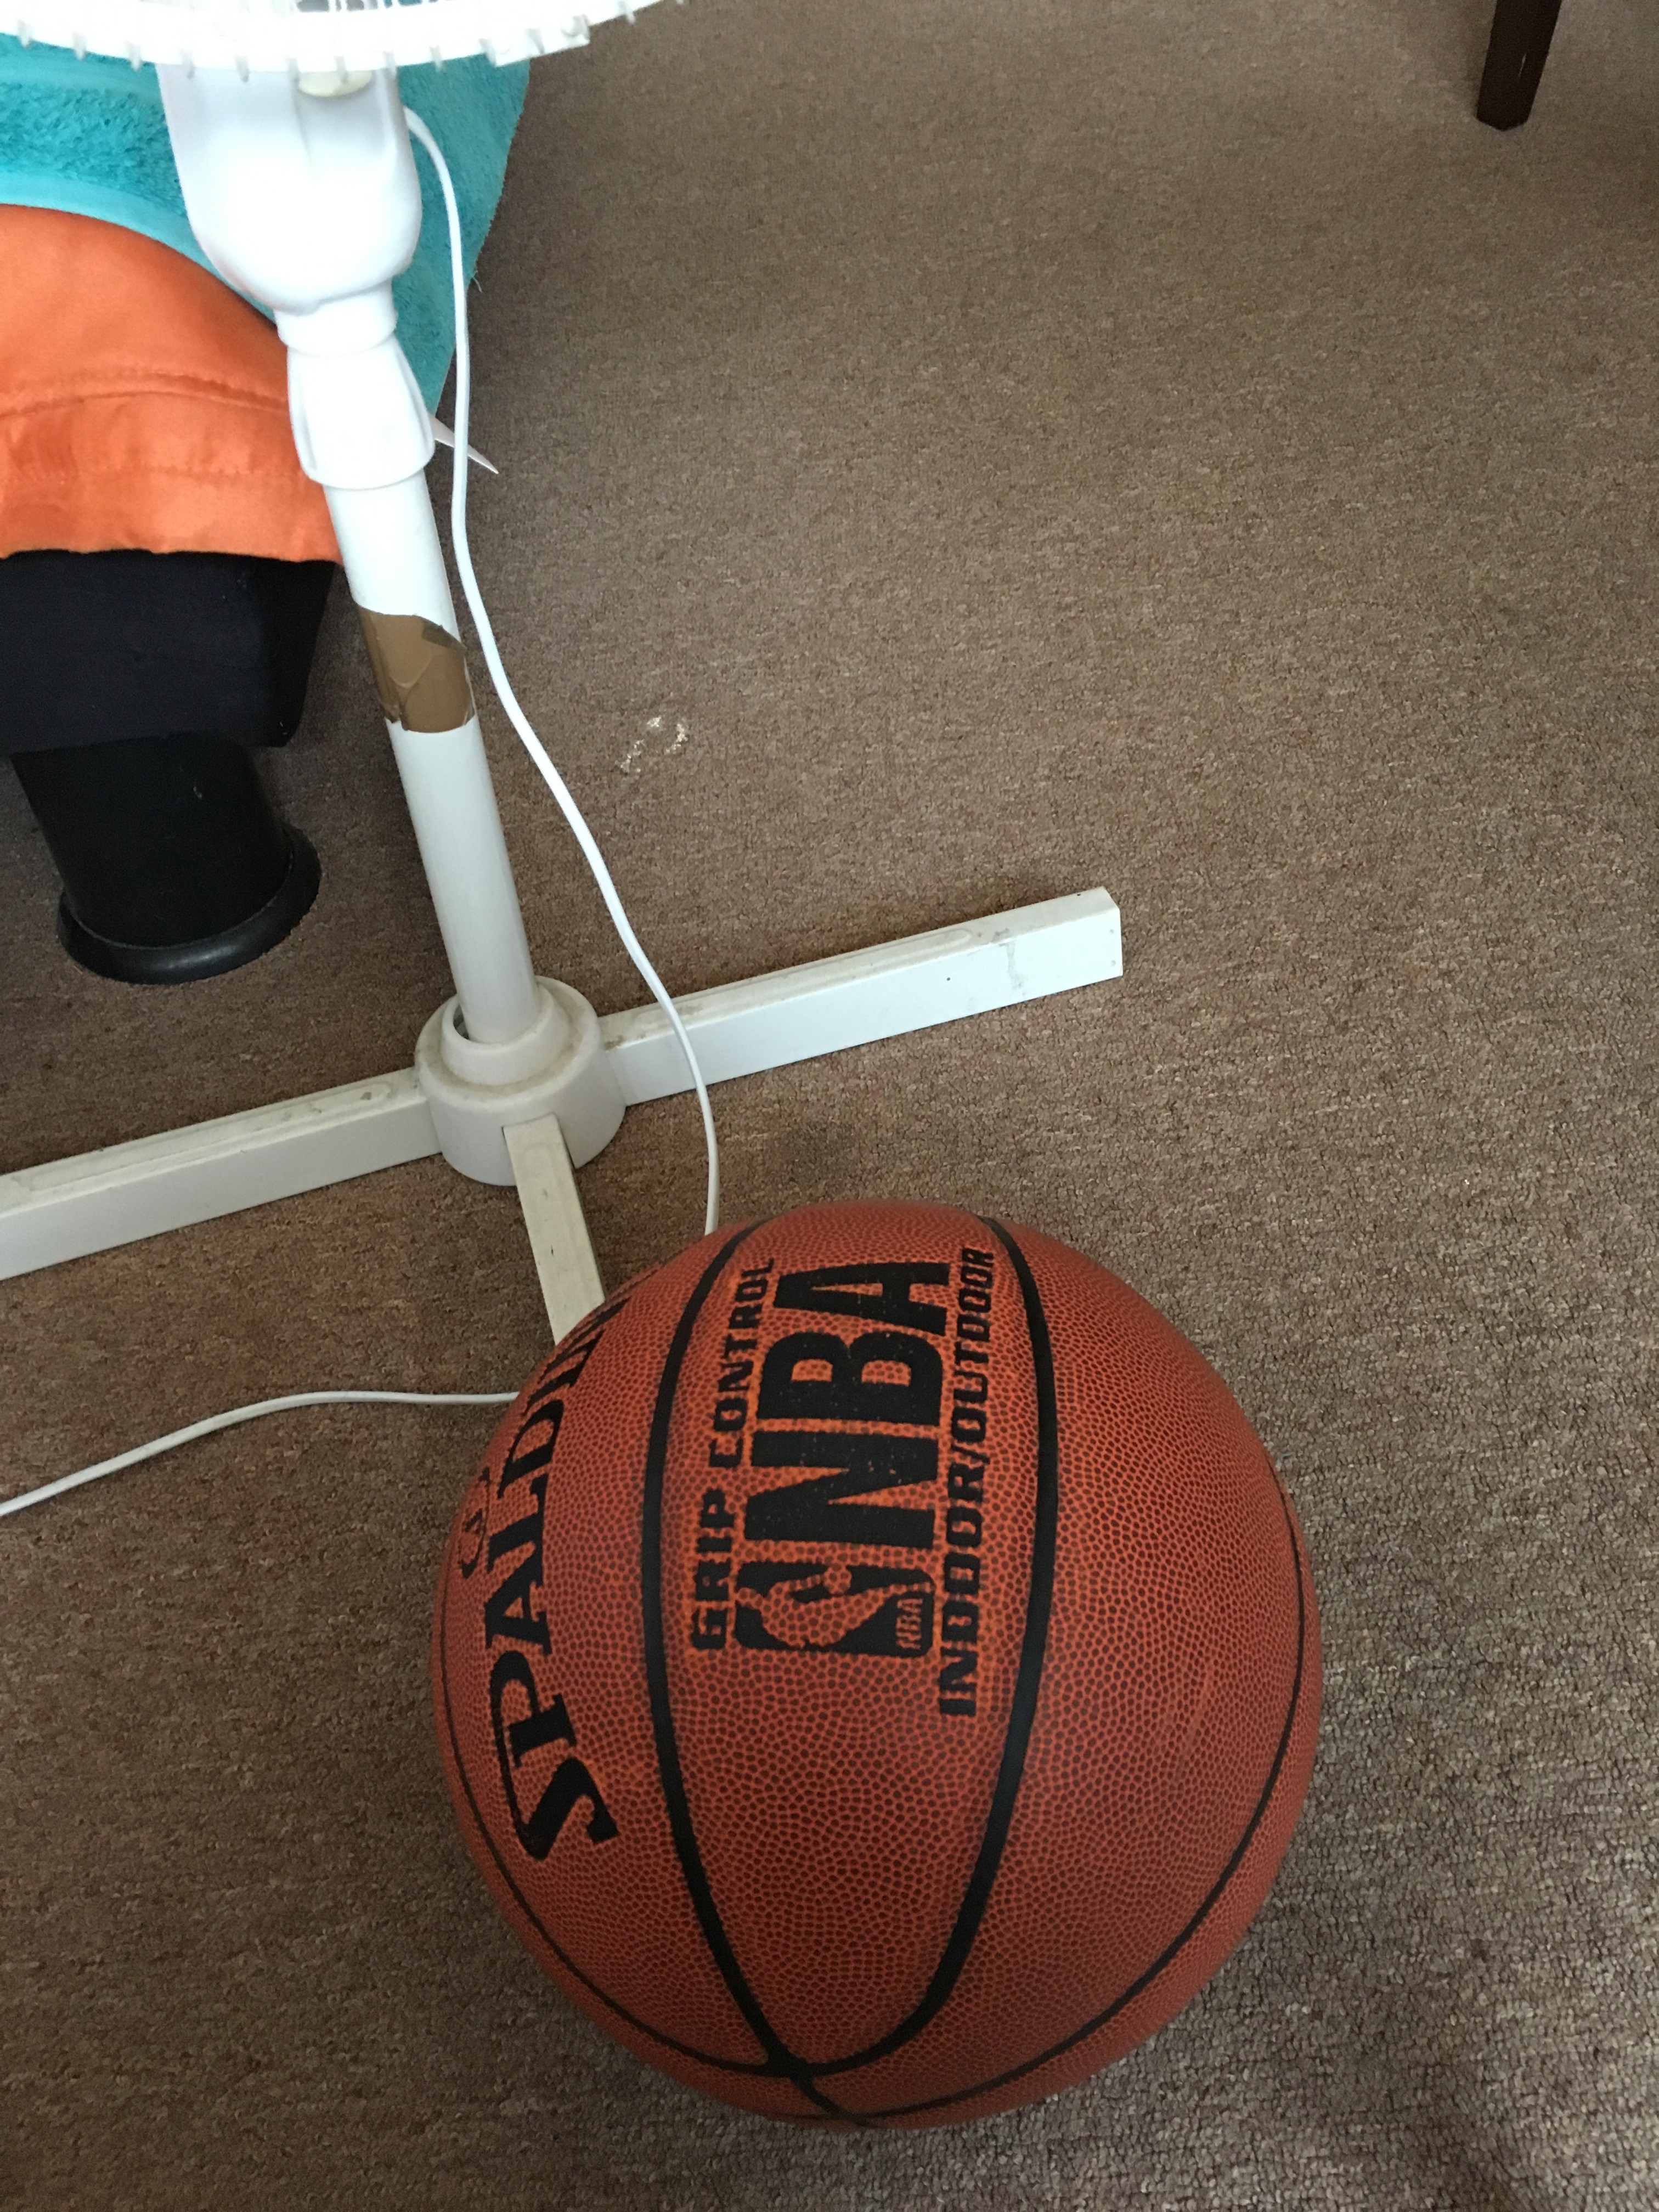Basketball: (413, 1188, 1356, 2142)
